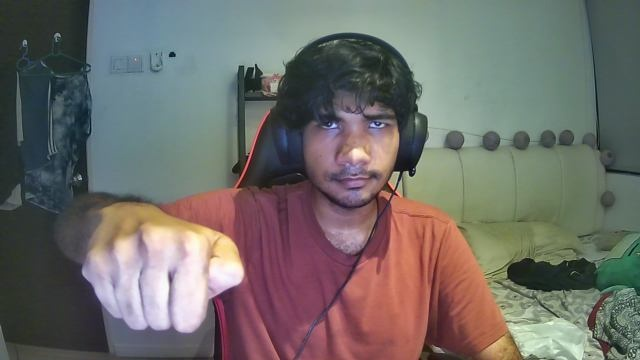Yes: (77, 216, 249, 333)
